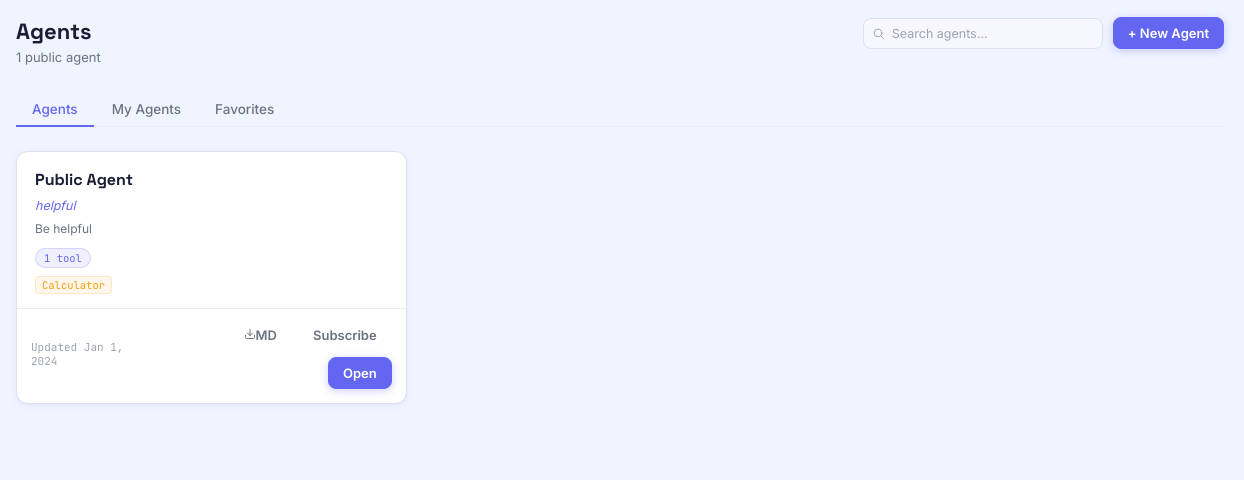
AgentsPage › Authenticated user › can view both tabs — public and mine independently
Expected: the text "Public Agent" is shown, [35, 169, 133, 190]
Note: My Agents tab shows user's list
Click the tab "My Agents": (146, 110) [96, 93, 197, 127]
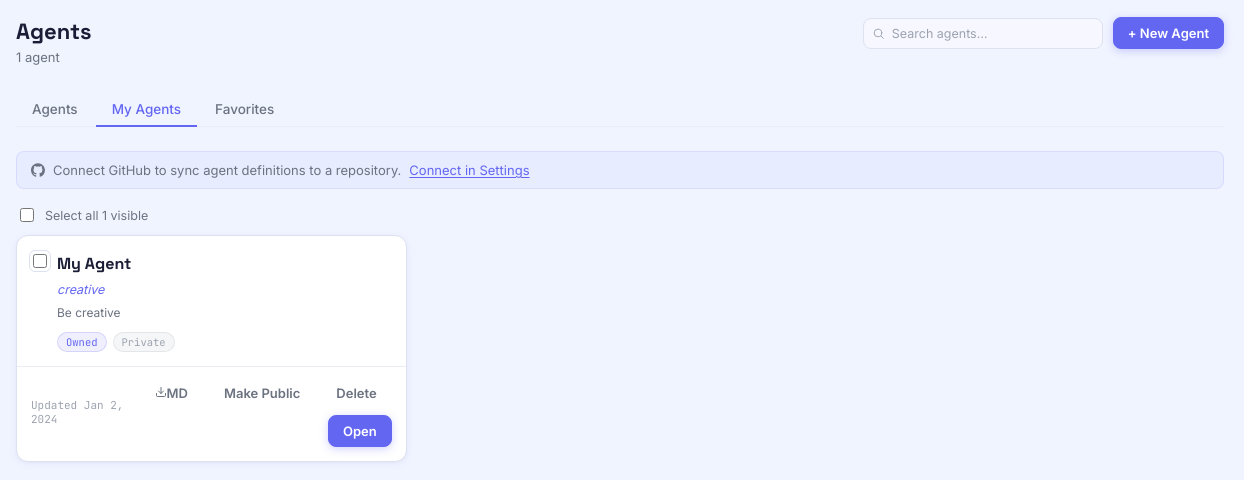
Result: the text "My Agent" is shown at [57, 253, 131, 274]
Result: the text "public agent" is gone
